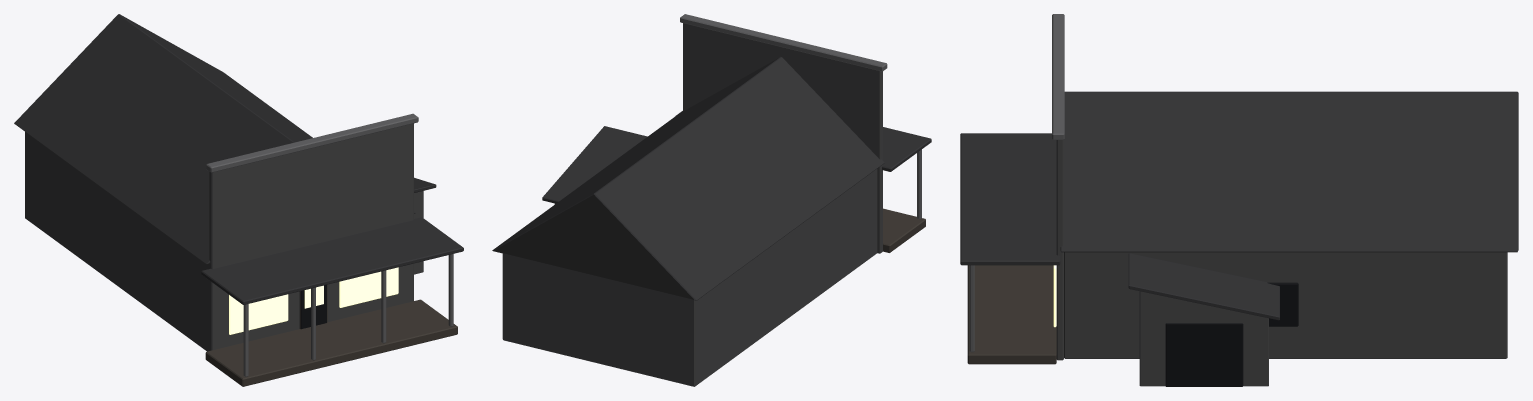
The model's file is grocery.glb.
3 renders of one model, left to right at view 1: azimuth 30°, elevation 25°; view 2: azimuth 150°, elevation 25°; view 3: azimuth 270°, elevation 25°, orthographic. The views are drawn at different scales.
Visible parts, largest first — view 1: grocery_body, grocery_side_shed, grocery_door; view 2: grocery_body, grocery_side_shed; view 3: grocery_body, grocery_side_shed.
Part boxes in pixels (box(x1,y1,x2,y2)): grocery_body: box(14, 14, 463, 386); grocery_side_shed: box(414, 177, 436, 274); grocery_door: box(299, 284, 327, 329); grocery_body: box(492, 14, 931, 386); grocery_side_shed: box(542, 126, 647, 204); grocery_body: box(960, 14, 1518, 364); grocery_side_shed: box(1128, 253, 1279, 386).
Bounding box in the file's own units: 9.8 × 6.82 × 15.1.
